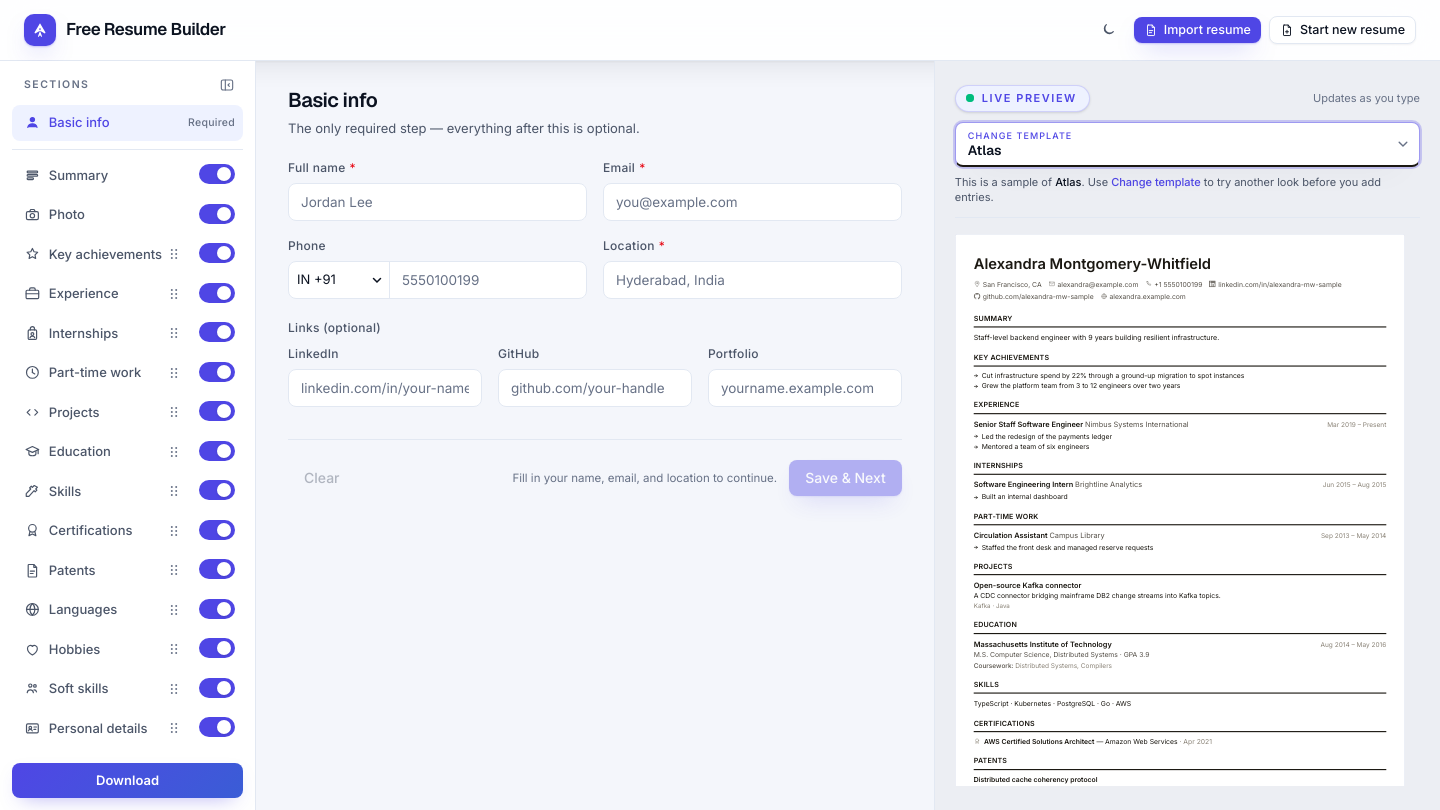
Test: BuilderShell › Next and Skip jump over sections already turned off in the nav
Expected: the heading "Basic info" is shown, [288,87,377,113]
Click the button "Photo" at (94,215), box [12,197,177,232]
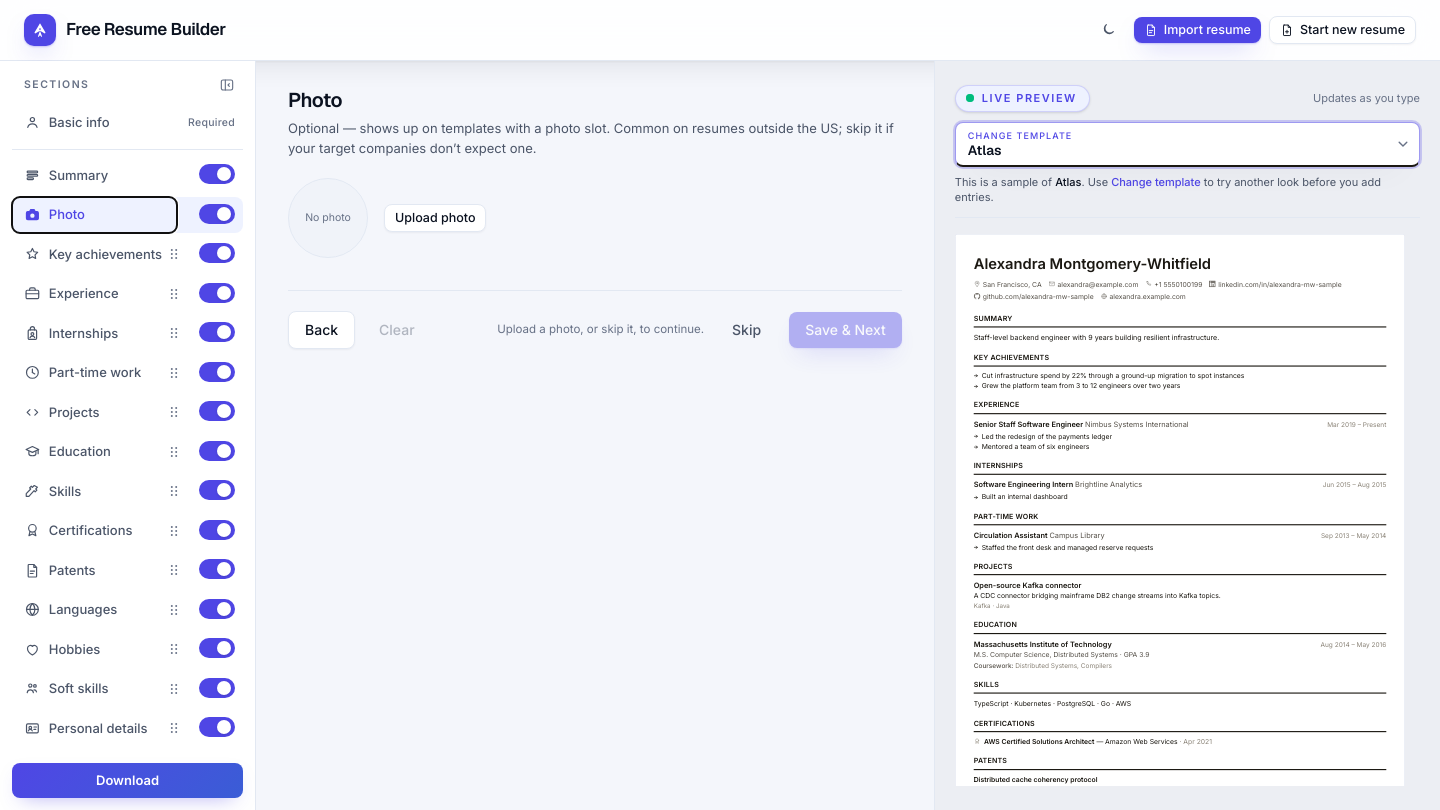
Click the switch named "Skip Key achievements" at (217,253), box [199,243,235,263]
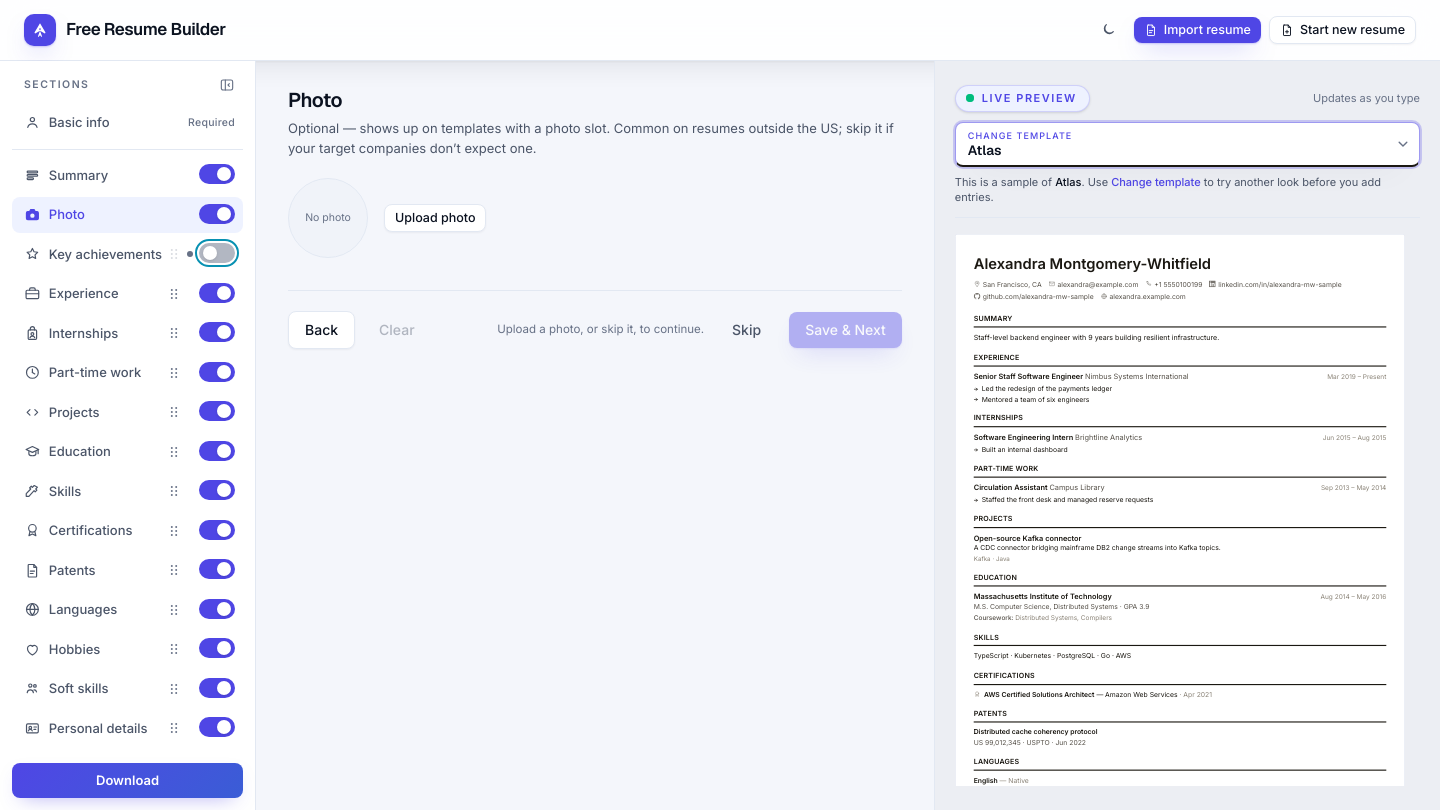
Click the switch named "Skip Internships" at (217,332), box [199,322,235,342]
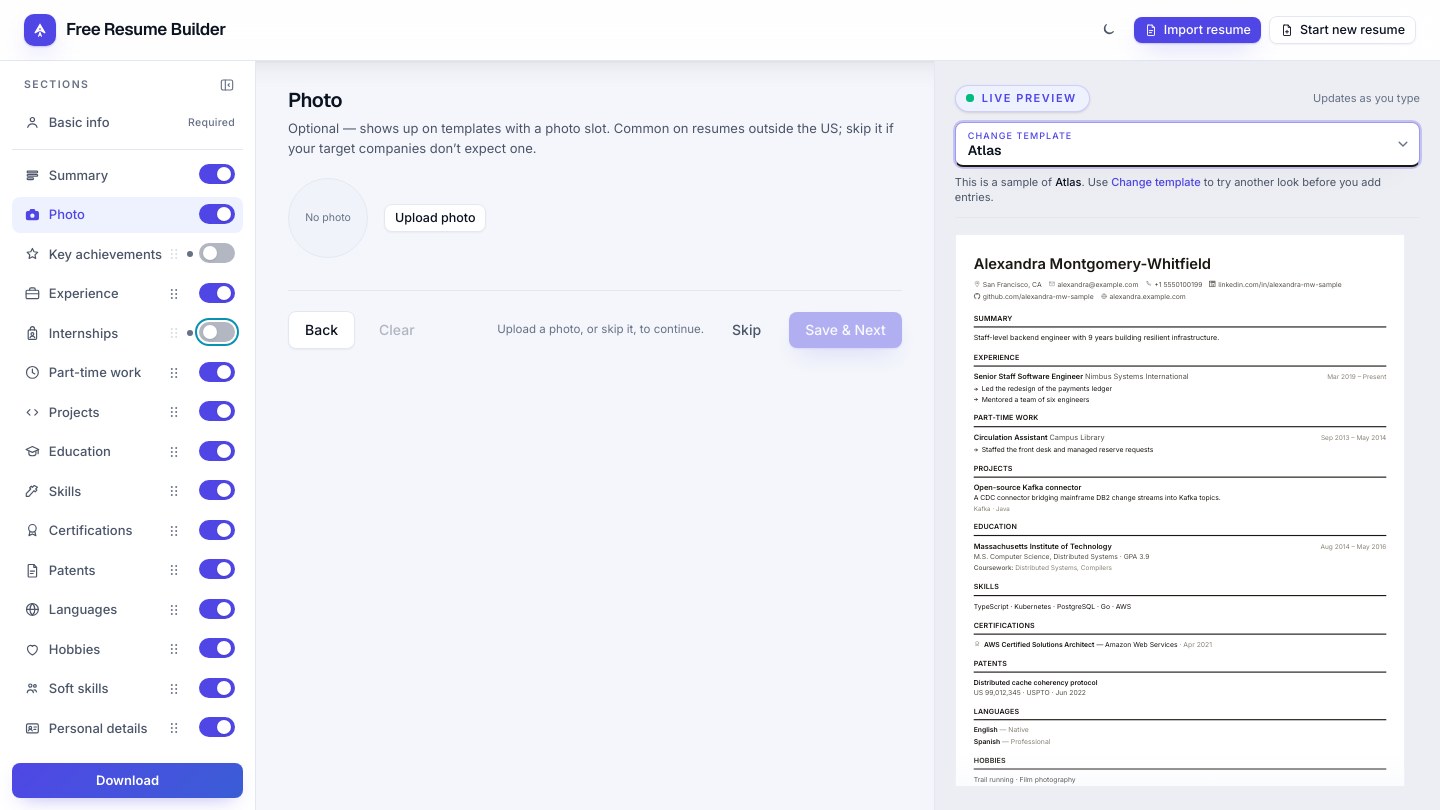
Click the button "Skip" at (747,330), box [716,312,777,348]
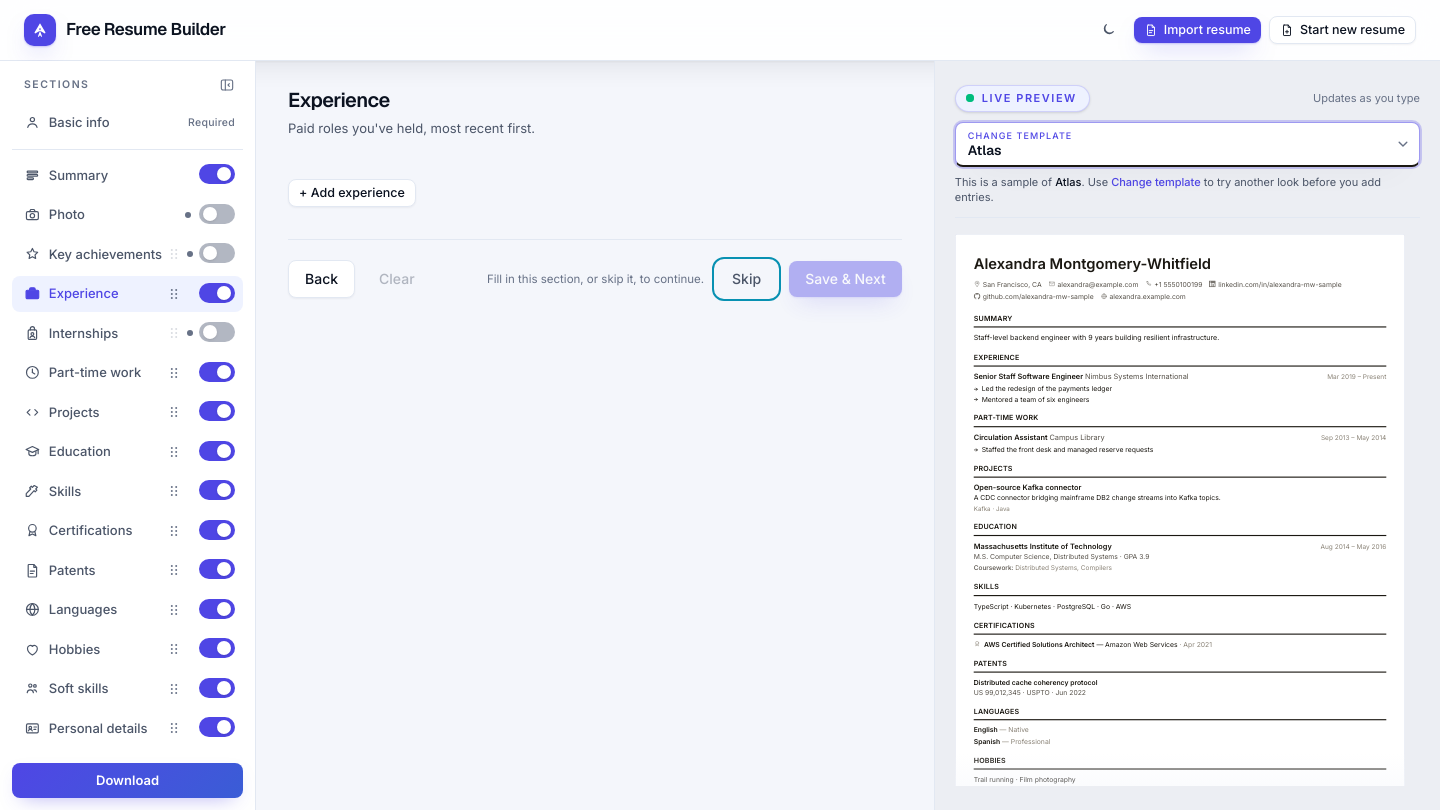
Expected: the 1st heading "Experience" is shown, [288,87,390,113]
Click the button "Back" at (322,279), box [288,260,355,298]
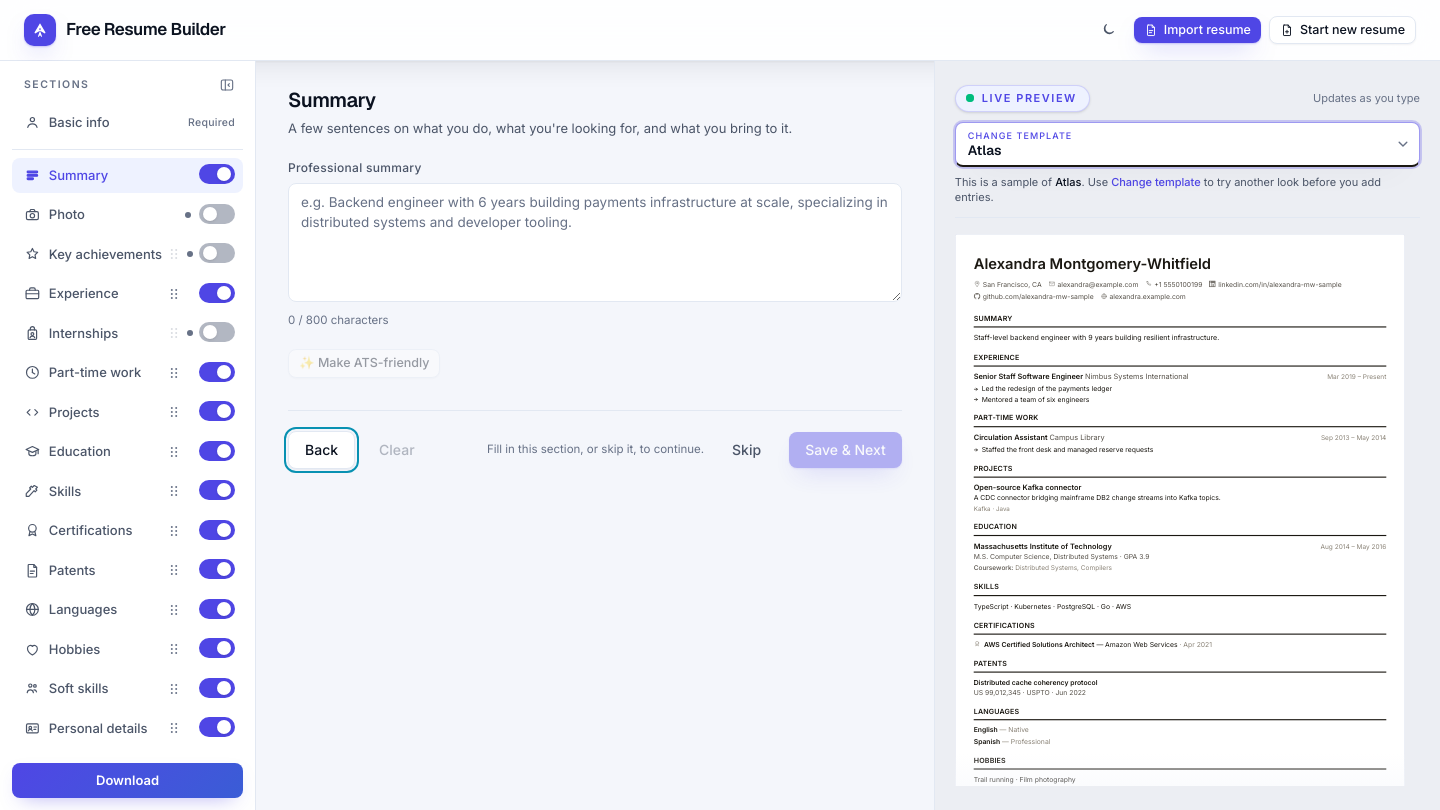
Expected: the 1st heading "Summary" is shown, [288,87,376,113]
